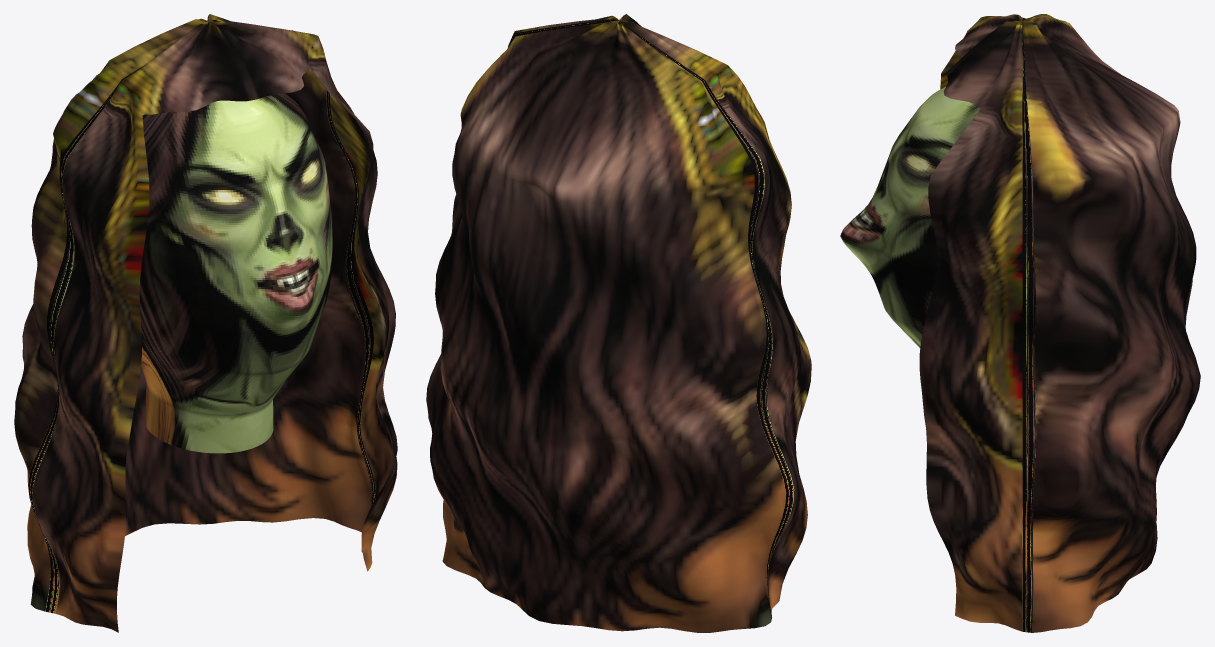
Rendered from head.glb.
3 renders of one model, left to right at view 1: azimuth 30°, elevation 25°; view 2: azimuth 150°, elevation 25°; view 3: azimuth 270°, elevation 25°, orthographic. The views are drawn at different scales.
Parts seen in each view (by area): view 1: monica source head and dimensional accessories; view 2: monica source head and dimensional accessories; view 3: monica source head and dimensional accessories.
Part boxes in pixels (x1,y1,x2,y2): monica source head and dimensional accessories: (14, 14, 397, 632); monica source head and dimensional accessories: (426, 14, 811, 632); monica source head and dimensional accessories: (840, 14, 1200, 632).
Bounding box in the file's own units: 0.3768 × 0.58 × 0.3538.
Materials: 2 (2 with a texture image).
